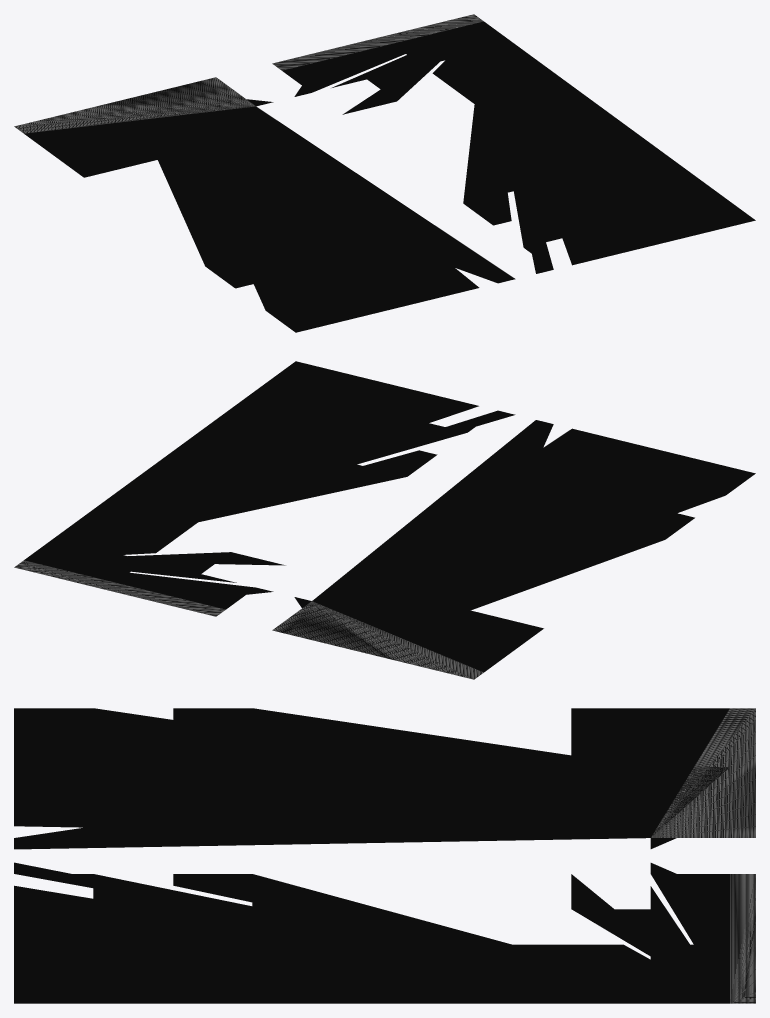
The model's file is bitnodes.obj.
3 renders of one model, top to bottom at view 1: azimuth 30°, elevation 25°; view 2: azimuth 150°, elevation 25°; view 3: azimuth 270°, elevation 25°, orthographic. The views are drawn at different scales.
Visible parts, largest first — view 1: Plane005; view 2: Plane005; view 3: Plane005.
Part boxes in pixels (left/top/right/bottom): Plane005: left=14, top=14, right=755, bottom=332; Plane005: left=14, top=361, right=755, bottom=679; Plane005: left=14, top=708, right=755, bottom=1003.
Size of the model in its own units: 587 by 0 by 623.
1 material, 1 textured.
